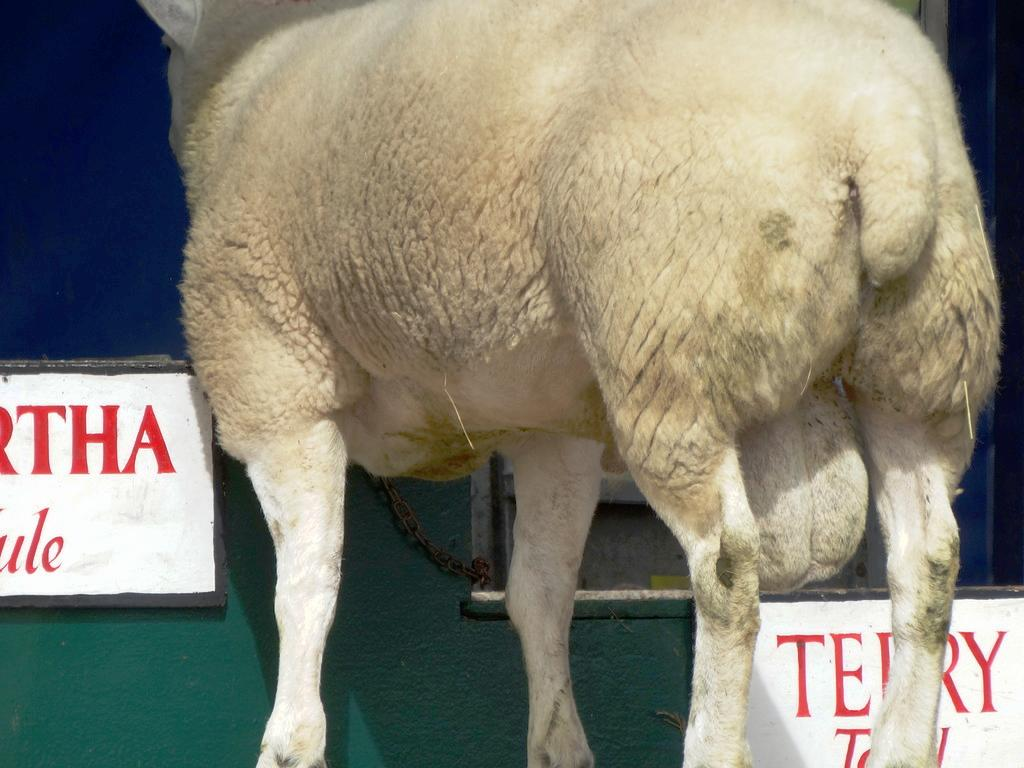Sheep: (125, 0, 1024, 768)
